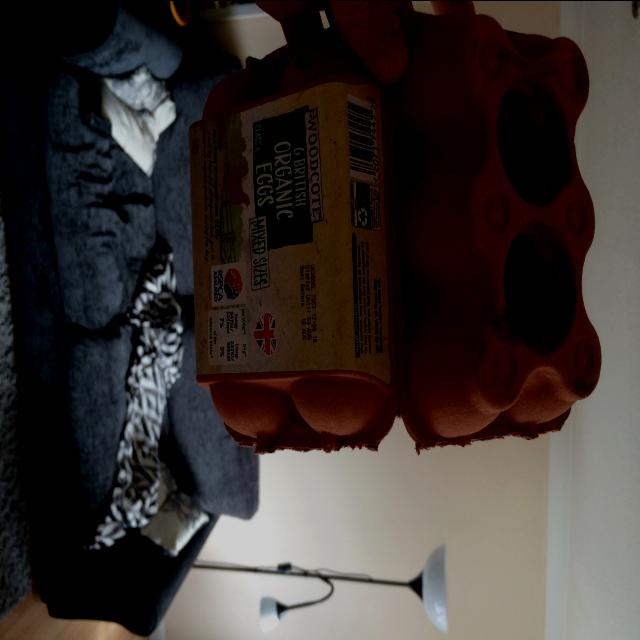Egg carton: (189, 8, 602, 453)
